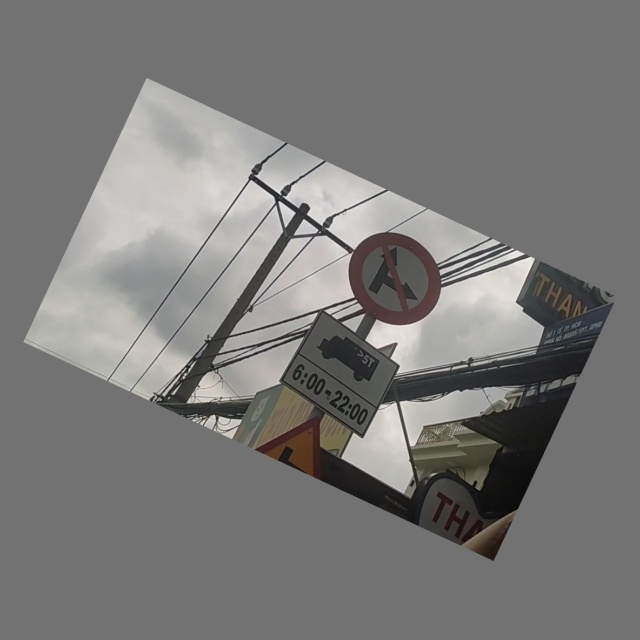P.139: (323, 212, 463, 343)
S.505a*Xe tai: (274, 305, 410, 437)
W.205b: (246, 393, 356, 488)
